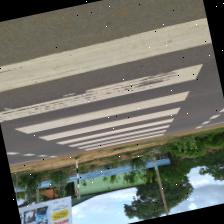crossing: (0, 17, 224, 169), (14, 90, 191, 137), (37, 106, 182, 143)
